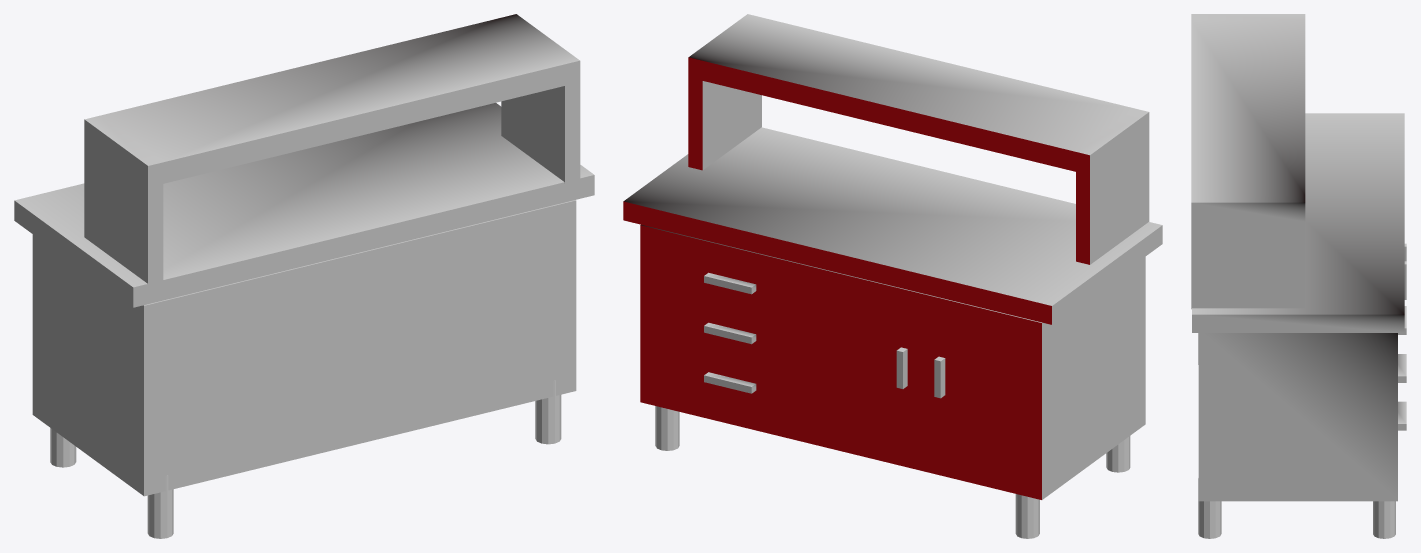
The model's file is bigworktable_a.fbx.
3 renders of one model, left to right at view 1: azimuth 30°, elevation 25°; view 2: azimuth 150°, elevation 25°; view 3: azimuth 270°, elevation 25°, orthographic. The views are drawn at different scales.
Parts seen in each view (by area): view 1: worktable with drawers and shelf, Cube.017, Cube.018, Cylinder.017, Cylinder.016, Cylinder.019; view 2: worktable with drawers and shelf, Cube.018, Cube.017, Cylinder.019, Cylinder.018, Cylinder.017; view 3: Cube.017, worktable with drawers and shelf, Cube.018, Cylinder.016, Cylinder.018, Cube.022.
Part boxes in pixels (x1,y1,x2,y2): worktable with drawers and shelf: (32,200,576,496); Cube.017: (84,14,580,284); Cube.018: (14,103,594,307); Cylinder.017: (147,475,173,538); Cylinder.016: (535,380,561,444); Cylinder.019: (50,428,76,467); worktable with drawers and shelf: (640,224,1145,499); Cube.018: (623,127,1162,324); Cube.017: (688,14,1149,264); Cylinder.019: (1015,494,1039,538); Cylinder.018: (655,406,679,450); Cylinder.017: (1106,436,1130,472); Cube.017: (1191,14,1305,309); worktable with drawers and shelf: (1198,333,1397,501); Cube.018: (1192,113,1404,332); Cylinder.016: (1198,478,1221,538); Cylinder.018: (1373,501,1395,538); Cube.022: (1398,401,1406,430).
Bounding box in the file's own units: 320 × 144 × 252.
